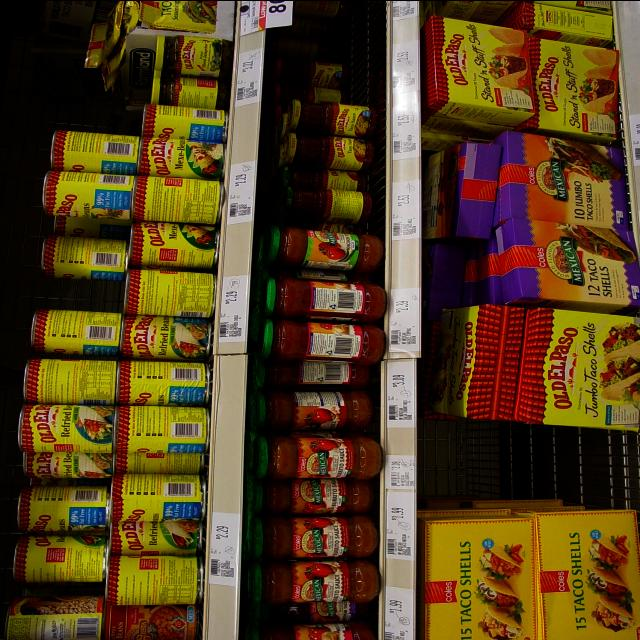empty_space: (425, 424, 639, 504), (339, 7, 379, 96), (37, 275, 125, 312), (58, 102, 142, 131)
